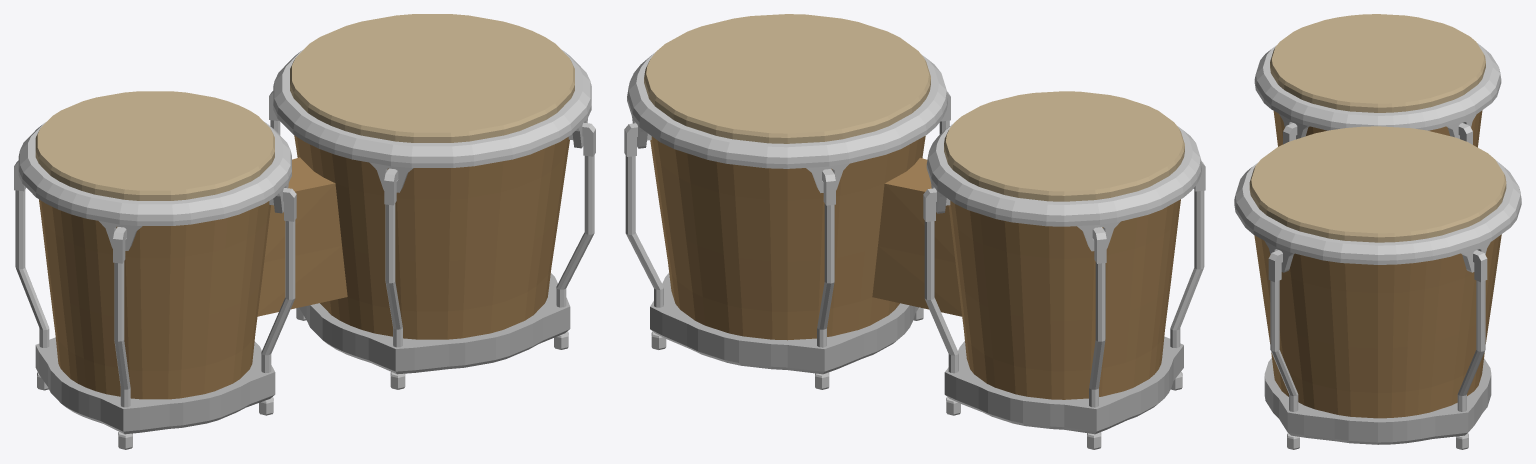
3 views of the same model, side by side, from view 1: azimuth 30°, elevation 25°; view 2: azimuth 150°, elevation 25°; view 3: azimuth 270°, elevation 25° (orthographic). The views are drawn at different scales.
Parts seen in each view (by area): view 1: Large_tapered_shell, Small_tapered_shell, Large_closed_head, Small_closed_head, Large_comfort_upper_rim, Large_lower_rim, Center_bridge, Small_comfort_upper_rim, Small_lower_rim, Small_tension_rod_2, Large_tension_rod_4, Small_tension_rod_4 (+2 smaller); view 2: Large_tapered_shell, Small_tapered_shell, Large_closed_head, Small_closed_head, Large_comfort_upper_rim, Large_lower_rim, Center_bridge, Small_comfort_upper_rim, Small_lower_rim, Small_tension_rod_3, Small_tension_rod_1, Large_tension_rod_1 (+2 smaller); view 3: Large_tapered_shell, Large_closed_head, Small_closed_head, Large_comfort_upper_rim, Large_lower_rim, Small_comfort_upper_rim, Large_tension_rod_1, Large_tension_rod_4, Small_tapered_shell, Large_hooked_tension_tip_1, Large_hooked_tension_tip_4, Large_slotted_rim_tab_4 (+1 smaller).
Part boxes in pixels (x1,y1,x2,y2): Large_tapered_shell: [294, 135, 569, 339]; Small_tapered_shell: [39, 199, 270, 399]; Large_closed_head: [290, 14, 574, 142]; Small_closed_head: [35, 91, 274, 200]; Large_comfort_upper_rim: [273, 49, 591, 167]; Large_lower_rim: [299, 273, 570, 374]; Center_bridge: [257, 157, 347, 316]; Small_comfort_upper_rim: [18, 122, 291, 225]; Small_lower_rim: [35, 337, 275, 434]; Small_tension_rod_2: [15, 190, 49, 347]; Large_tension_rod_4: [556, 155, 594, 307]; Small_tension_rod_4: [261, 220, 295, 372]; Large_tapered_shell: [650, 136, 925, 340]; Small_tapered_shell: [948, 199, 1180, 399]; Large_closed_head: [644, 14, 930, 143]; Small_closed_head: [944, 91, 1184, 201]; Large_comfort_upper_rim: [627, 52, 947, 168]; Large_lower_rim: [650, 272, 918, 374]; Center_bridge: [872, 157, 961, 316]; Small_comfort_upper_rim: [926, 124, 1201, 226]; Small_lower_rim: [944, 336, 1183, 434]; Small_tension_rod_3: [1170, 190, 1204, 347]; Small_tension_rod_1: [924, 221, 958, 373]; Large_tension_rod_1: [625, 155, 663, 307]; Large_tapered_shell: [1254, 234, 1501, 418]; Large_closed_head: [1249, 126, 1506, 242]; Small_closed_head: [1270, 14, 1485, 112]; Large_comfort_upper_rim: [1234, 160, 1521, 264]; Large_lower_rim: [1264, 358, 1491, 444]; Small_comfort_upper_rim: [1254, 43, 1501, 130]; Large_tension_rod_1: [1457, 280, 1485, 411]; Large_tension_rod_4: [1270, 280, 1298, 411]; Small_tapered_shell: [1273, 110, 1482, 147]; Large_hooked_tension_tip_1: [1473, 250, 1487, 282]; Large_hooked_tension_tip_4: [1268, 250, 1282, 282]; Large_slotted_rim_tab_4: [1265, 241, 1294, 272].
Size of the model in its own units: 0.4716 by 0.218 by 0.2451.
